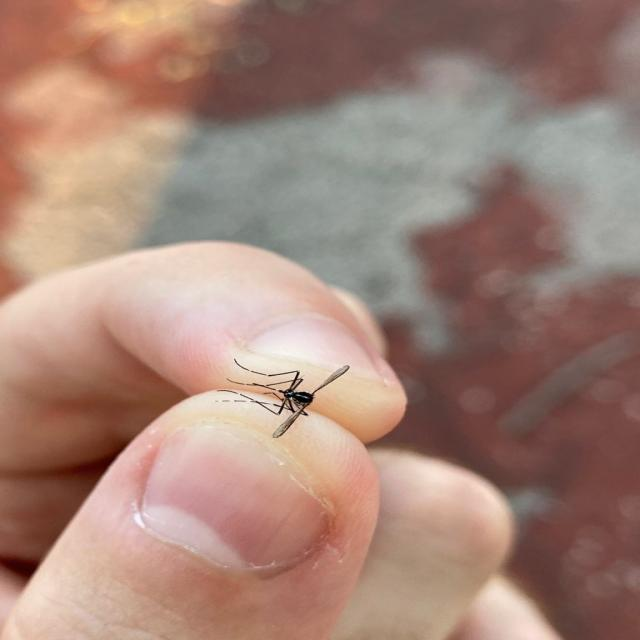albopictus: (210, 351, 352, 440)
